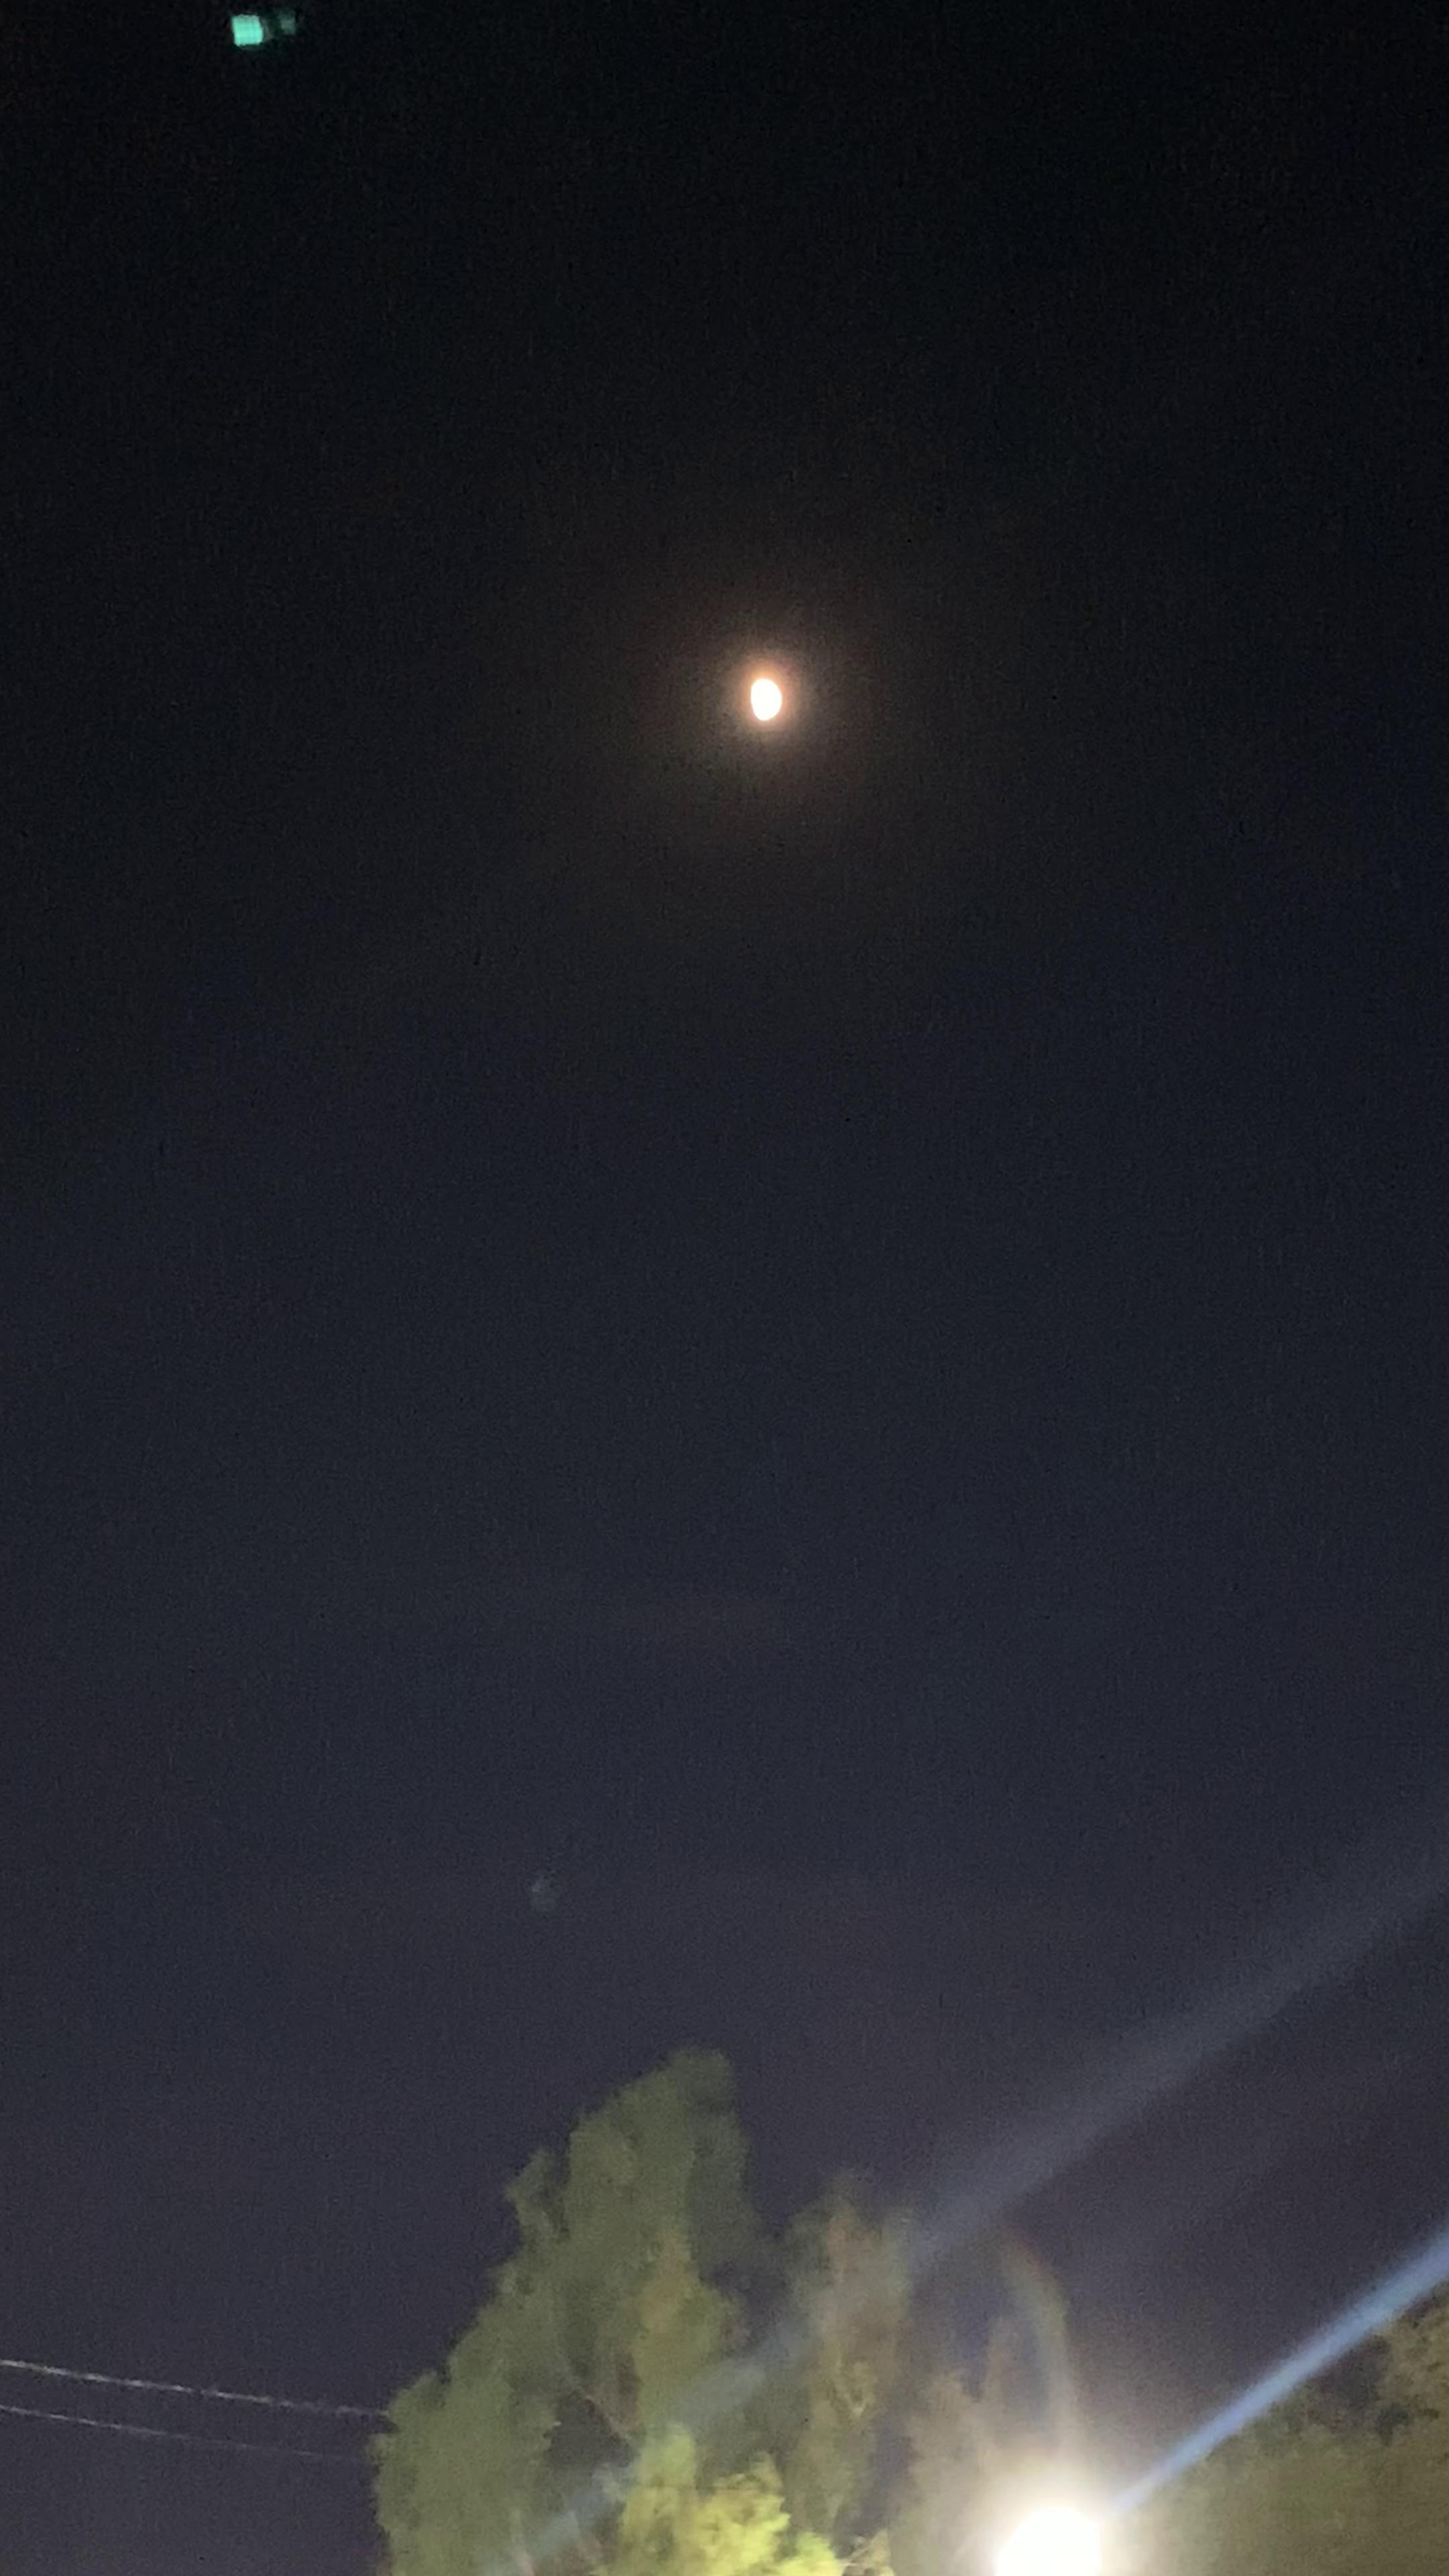moon: (706, 630, 832, 743)
